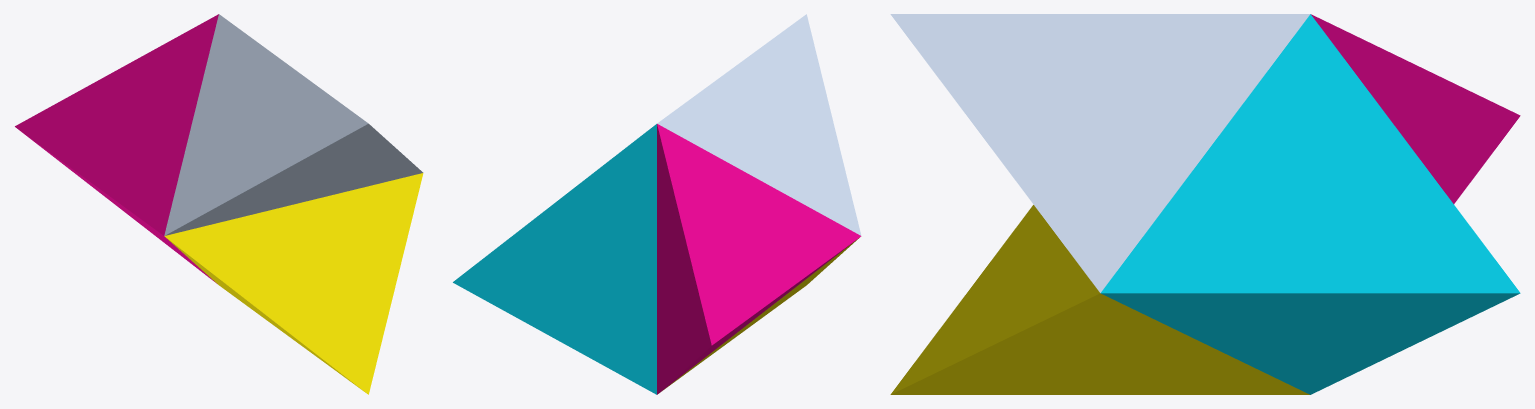
The model's file is TetragonalDisphenoidal_11.glb.
3 renders of one model, left to right at view 1: azimuth 30°, elevation 25°; view 2: azimuth 150°, elevation 25°; view 3: azimuth 270°, elevation 25°, orthographic. The views are drawn at different scales.
Bounding box in the file's own units: 4 × 4 × 6.
